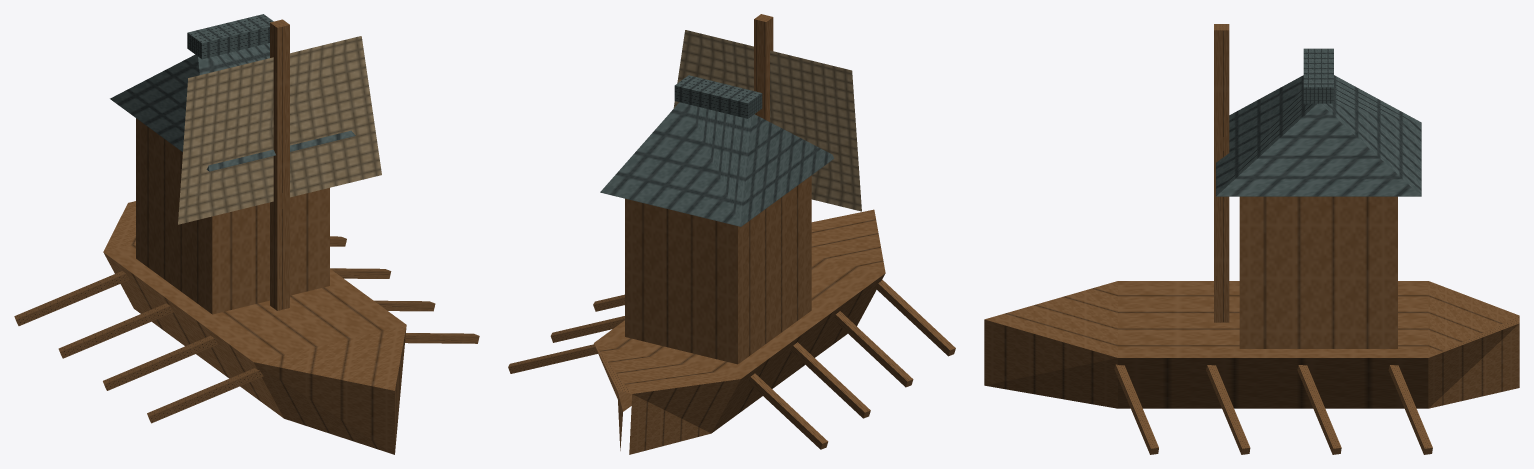
The model's file is unit-WARSHIP-lod1.glb.
3 views of the same model, side by side, from view 1: azimuth 30°, elevation 25°; view 2: azimuth 150°, elevation 25°; view 3: azimuth 270°, elevation 25° (orthographic). The views are drawn at different scales.
Bounding box in the file's own units: 0.6486 × 0.65 × 0.88.
Materials: 1 (1 with a texture image).
